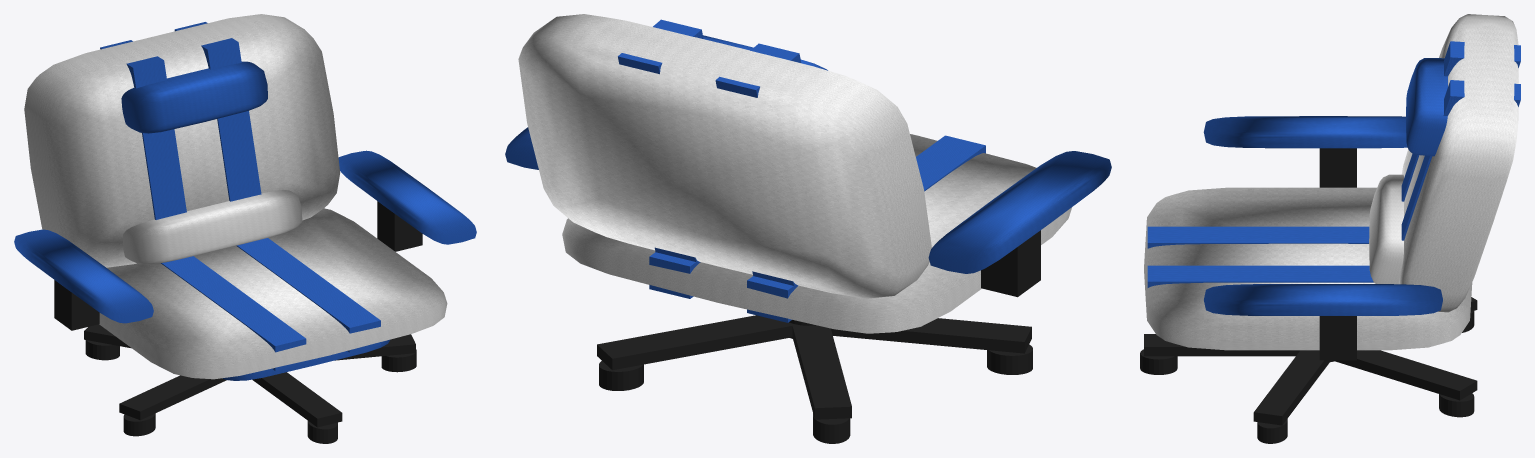
3 renders of one model, left to right at view 1: azimuth 30°, elevation 25°; view 2: azimuth 150°, elevation 25°; view 3: azimuth 270°, elevation 25°, orthographic. The views are drawn at different scales.
Parts seen in each view (by area): view 1: 20 backrest, 12 seat, 23 lumbar_pillow, 24 headrest, 16 armrest_left_pad, 17 armrest_right_pad, 13 seat_blue_stripe_left, 14 seat_blue_stripe_right, 21 backrest_blue_stripe_left, 22 backrest_blue_stripe_right, 2 base_spoke_1, 6 base_spoke_5 (+9 smaller); view 2: 20 backrest, 12 seat, 16 armrest_left_pad, 4 base_spoke_3, 5 base_spoke_4, 6 base_spoke_5, 13 seat_blue_stripe_left, 18 armrest_left_support, 21 backrest_blue_stripe_left, 22 backrest_blue_stripe_right, 11 wheel_5, 9 wheel_3 (+3 smaller); view 3: 12 seat, 20 backrest, 17 armrest_right_pad, 16 armrest_left_pad, 14 seat_blue_stripe_right, 13 seat_blue_stripe_left, 24 headrest, 23 lumbar_pillow, 4 base_spoke_3, 3 base_spoke_2, 19 armrest_right_support, 2 base_spoke_1 (+6 smaller).
Boxes of the visible parts, box(x1,y1,x2,y2) form: 20 backrest: box(24, 14, 340, 267); 12 seat: box(99, 208, 447, 379); 23 lumbar_pillow: box(123, 190, 302, 264); 24 headrest: box(121, 61, 267, 133); 16 armrest_left_pad: box(14, 229, 153, 323); 17 armrest_right_pad: box(338, 150, 476, 244); 13 seat_blue_stripe_left: box(161, 256, 306, 370); 14 seat_blue_stripe_right: box(236, 238, 380, 352); 21 backrest_blue_stripe_left: box(100, 40, 186, 219); 22 backrest_blue_stripe_right: box(174, 22, 261, 201); 2 base_spoke_1: box(252, 372, 342, 427); 6 base_spoke_5: box(119, 375, 226, 420); 20 backrest: box(518, 14, 931, 298); 12 seat: box(562, 134, 1071, 333); 16 armrest_left_pad: box(928, 151, 1111, 273); 4 base_spoke_3: box(597, 315, 797, 370); 5 base_spoke_4: box(792, 325, 851, 419); 6 base_spoke_5: box(831, 318, 1031, 353); 13 seat_blue_stripe_left: box(747, 135, 985, 322); 18 armrest_left_support: box(981, 230, 1040, 297); 21 backrest_blue_stripe_left: box(715, 43, 801, 288); 22 backrest_blue_stripe_right: box(618, 19, 703, 261); 11 wheel_5: box(987, 344, 1032, 374); 9 wheel_3: box(599, 361, 643, 390); 12 seat: box(1144, 187, 1472, 350); 20 backrest: box(1399, 14, 1518, 312); 17 armrest_right_pad: box(1204, 284, 1442, 315); 16 armrest_left_pad: box(1203, 116, 1407, 148); 14 seat_blue_stripe_right: box(1147, 265, 1373, 287); 13 seat_blue_stripe_left: box(1147, 226, 1369, 248); 24 headrest: box(1406, 58, 1447, 156); 23 lumbar_pillow: box(1369, 174, 1403, 284); 4 base_spoke_3: box(1332, 350, 1477, 400); 3 base_spoke_2: box(1253, 350, 1330, 425); 19 armrest_right_support: box(1319, 316, 1356, 360); 2 base_spoke_1: box(1144, 334, 1299, 356).
Size of the model in its own units: 0.541 by 0.3988 by 0.4572.
4 materials, 2 textured.
